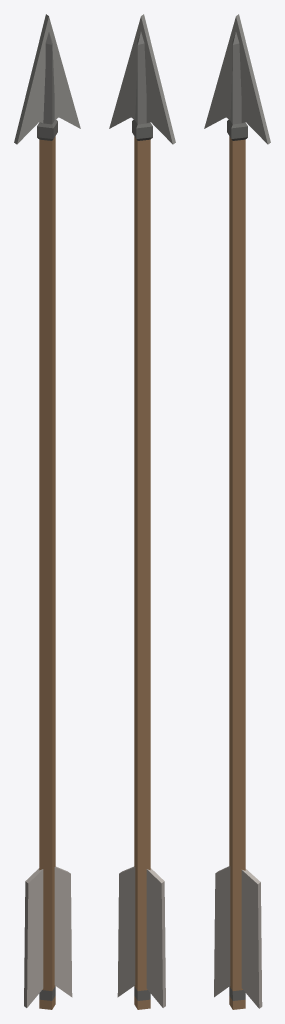
The model's file is SM_pwe_rome_arrow_01.fbx.
3 renders of one model, left to right at view 1: azimuth 30°, elevation 25°; view 2: azimuth 150°, elevation 25°; view 3: azimuth 330°, elevation 25°, orthographic.
Parts seen in each view (by area): view 1: SM_pwe_rome_arrow_01; view 2: SM_pwe_rome_arrow_01; view 3: SM_pwe_rome_arrow_01.
Part boxes in pixels (<box>): SM_pwe_rome_arrow_01: <box>14,14,80,1009</box>; SM_pwe_rome_arrow_01: <box>109,14,175,1009</box>; SM_pwe_rome_arrow_01: <box>204,14,270,1009</box>.
Size of the model in its own units: 3.98 by 58.96 by 1.32.
